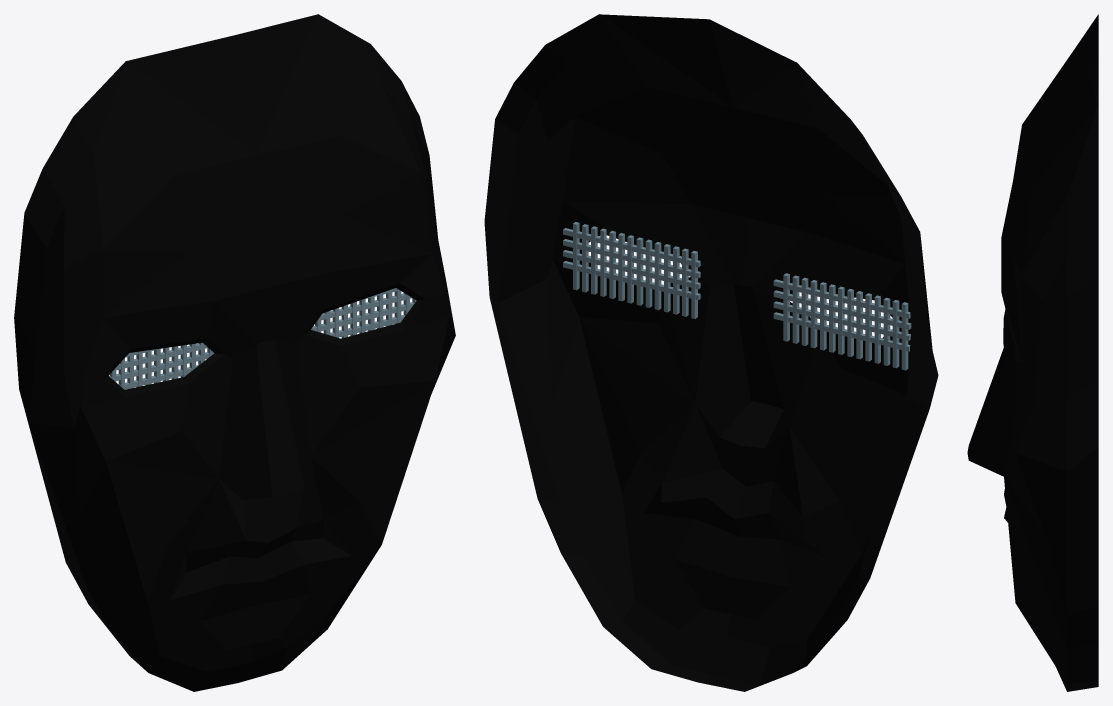
File: mask.glb
3 renders of one model, left to right at view 1: azimuth 30°, elevation 25°; view 2: azimuth 150°, elevation 25°; view 3: azimuth 270°, elevation 25°, orthographic. The views are drawn at different scales.
Parts seen in each view (by area): view 1: Cube.001; view 2: Cube.001; view 3: Cube.001.
Part boxes in pixels (box(x1,y1,x2,y2)): Cube.001: box(14, 14, 455, 691); Cube.001: box(484, 14, 938, 691); Cube.001: box(967, 14, 1098, 691).
Bounding box in the file's own units: 0.5434 × 0.7936 × 0.1512.
Materials: 1 (1 with a texture image).
